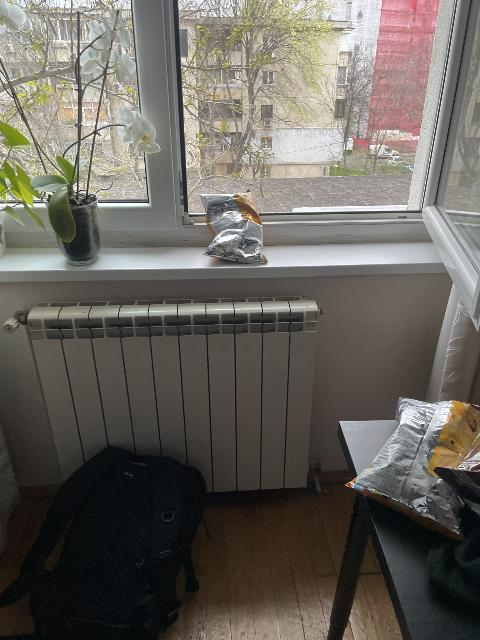Chio Cascaval 125g: (349, 398, 476, 538)
Chio Hula Hoops Cheese 70g: (198, 191, 268, 264)
